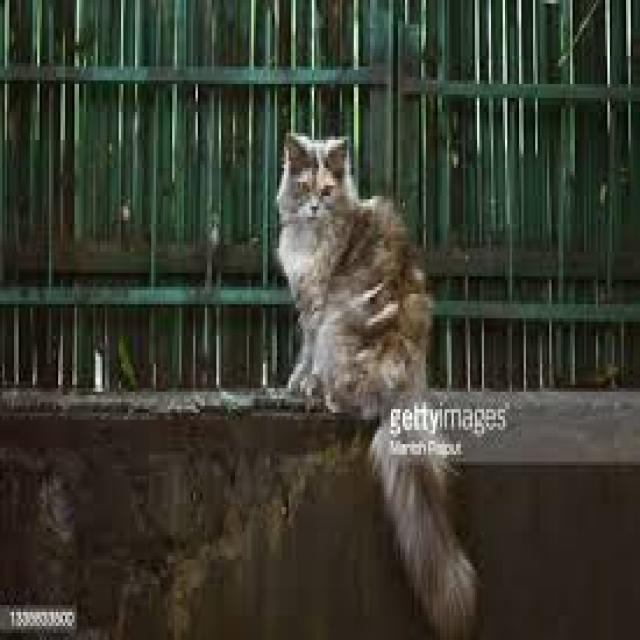Cat: (267, 121, 480, 639)
